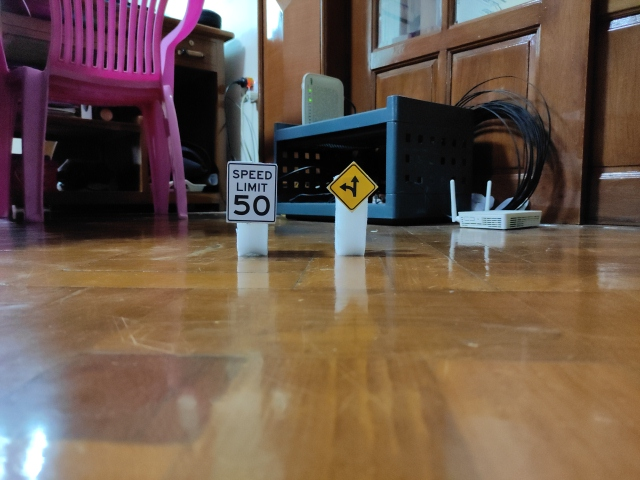Speed Limit 50: (226, 160, 279, 223)
Straight Or Left Sign: (328, 161, 377, 211)
